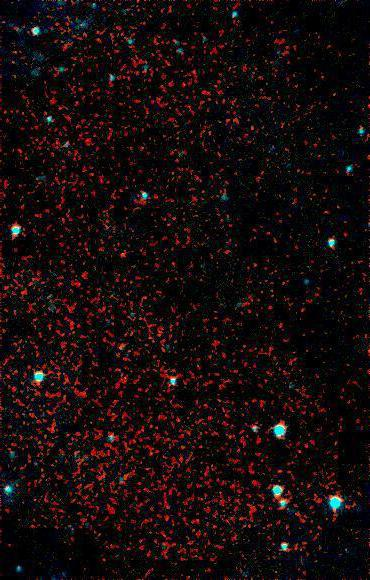star: (105, 243, 135, 273)
